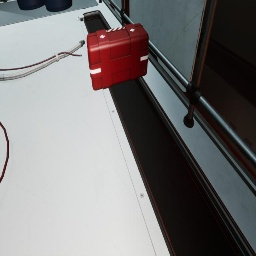FirstAidBox ,: (87, 23, 149, 90)
